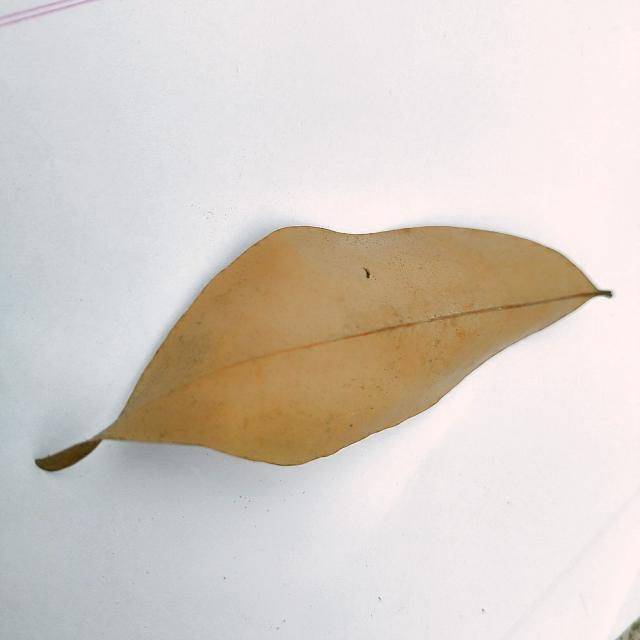Dry_Leaf-Lychee: (36, 226, 611, 473)
